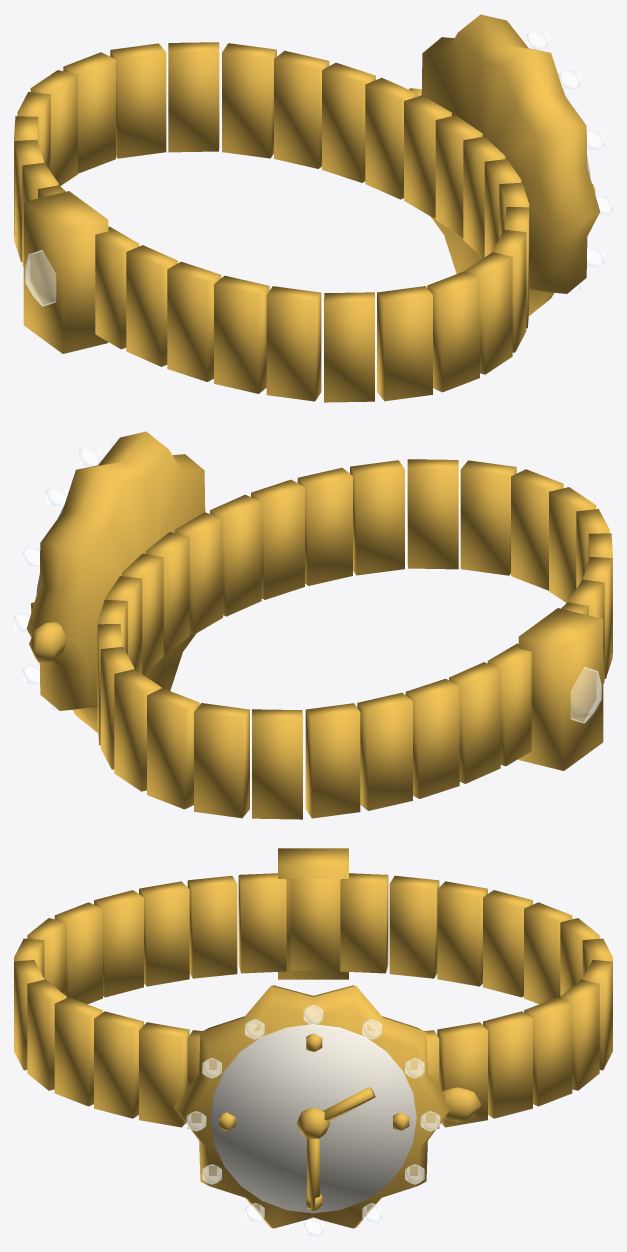
Rendered from gold_watch.glb.
3 renders of one model, top to bottom at view 1: azimuth 30°, elevation 25°; view 2: azimuth 150°, elevation 25°; view 3: azimuth 270°, elevation 25°, orthographic. The views are drawn at different scales.
Visible parts, largest first — view 1: gold_watch; view 2: gold_watch; view 3: gold_watch.
Part boxes in pixels (x1,y1,x2,y2): gold_watch: (14,14,612,402); gold_watch: (14,431,612,819); gold_watch: (14,848,612,1237).
Bounding box in the file's own units: 0.0577 × 0.0282 × 0.0634.
